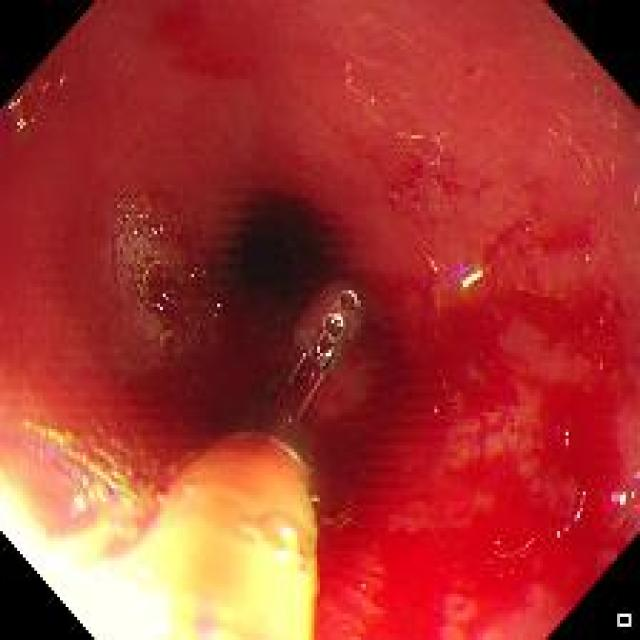blood: (317, 429, 543, 639)
bubbles: (112, 197, 199, 349), (13, 433, 118, 538), (84, 451, 134, 498)
color misalignment: (118, 201, 190, 340), (546, 477, 590, 541), (294, 330, 336, 389), (422, 251, 449, 289), (458, 264, 486, 299), (494, 536, 532, 560), (557, 415, 579, 452), (22, 78, 61, 97), (601, 487, 636, 508), (335, 286, 360, 314), (321, 314, 347, 337), (191, 614, 219, 634), (12, 110, 30, 141), (288, 447, 304, 473), (623, 465, 639, 489), (307, 494, 321, 521), (57, 68, 72, 89), (426, 149, 442, 168), (211, 300, 225, 321), (8, 92, 20, 110), (430, 405, 441, 418), (388, 188, 400, 199)
contrast: (217, 193, 338, 354)
instrument: (117, 283, 367, 639)
saturation: (6, 428, 284, 637)
specularity: (607, 487, 629, 511), (459, 264, 477, 293)
